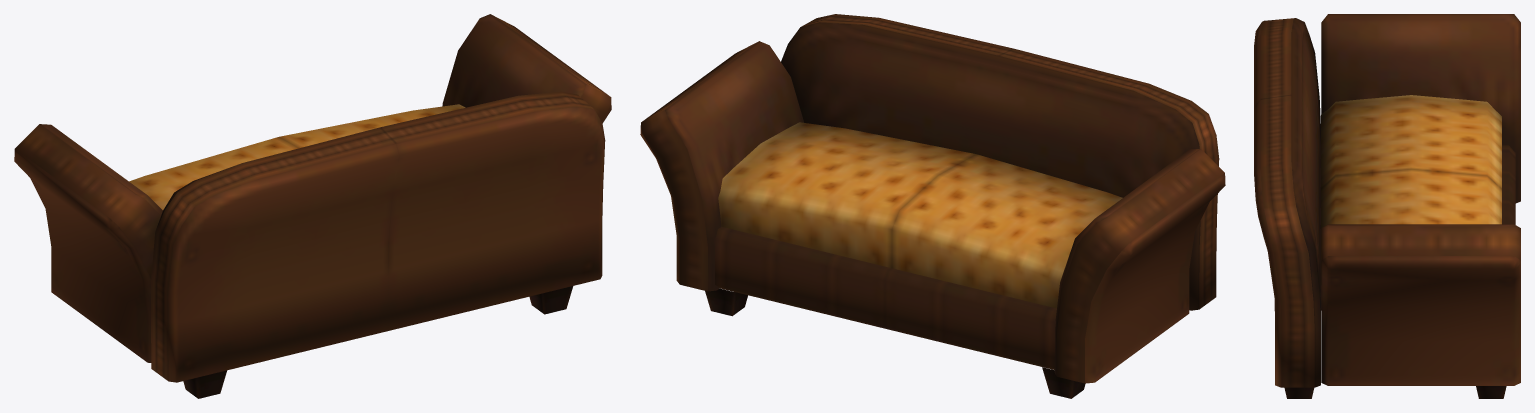
The model's file is Sofa_01.gltf.
The picture shows the model from 3 angles, left to right: view 1: azimuth 30°, elevation 25°; view 2: azimuth 150°, elevation 25°; view 3: azimuth 270°, elevation 25°; orthographic projection. The views are drawn at different scales.
Parts seen in each view (by area): view 1: Sofa_01; view 2: Sofa_01; view 3: Sofa_01.
Boxes of the visible parts, x1=… form: Sofa_01: x1=14, y1=14, x2=611, y2=398; Sofa_01: x1=640, y1=14, x2=1225, y2=398; Sofa_01: x1=1254, y1=14, x2=1520, y2=398.
Size of the model in its own units: 73.2 by 31.42 by 34.97.
1 material, 1 textured.
